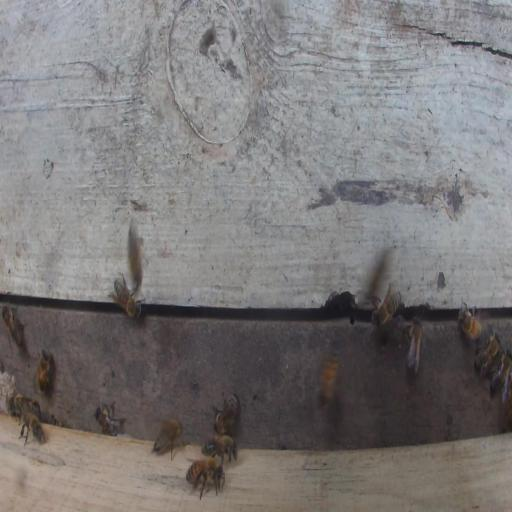bee: (185, 456, 225, 500), (111, 273, 143, 320), (152, 416, 183, 460), (371, 283, 401, 328), (403, 314, 423, 377), (213, 391, 238, 435), (474, 332, 500, 374), (1, 304, 25, 348), (94, 402, 124, 436), (202, 435, 238, 462), (490, 351, 511, 396), (19, 411, 46, 445), (458, 306, 483, 339), (35, 347, 52, 395), (12, 393, 41, 418)
